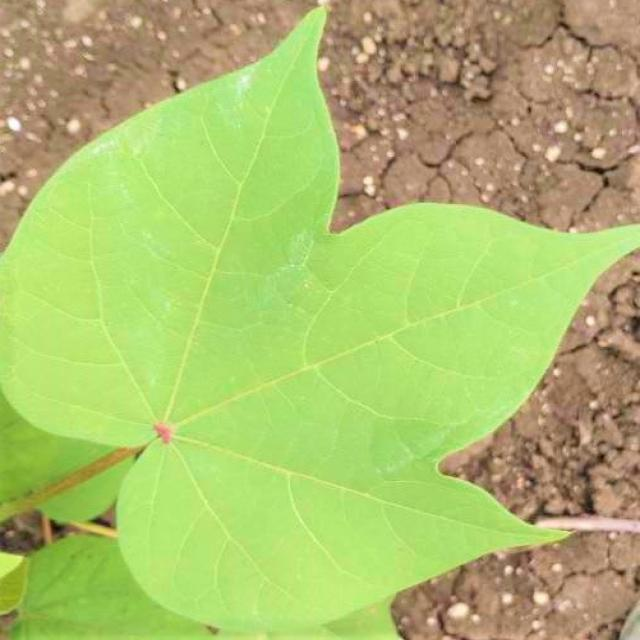Healthy Leaf: (17, 47, 495, 640)
